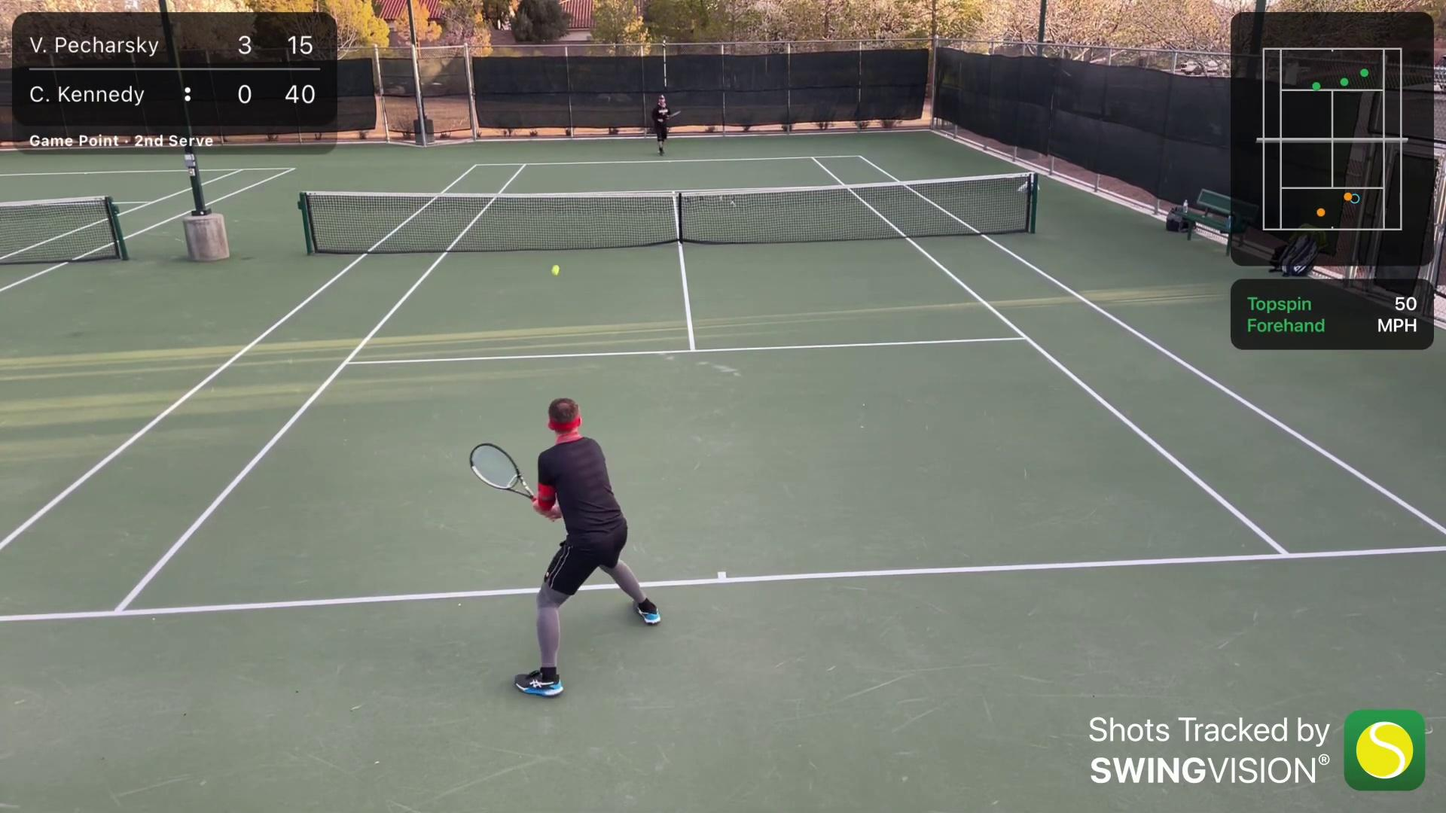ball: (549, 263, 561, 277), (1223, 67, 1227, 72)
